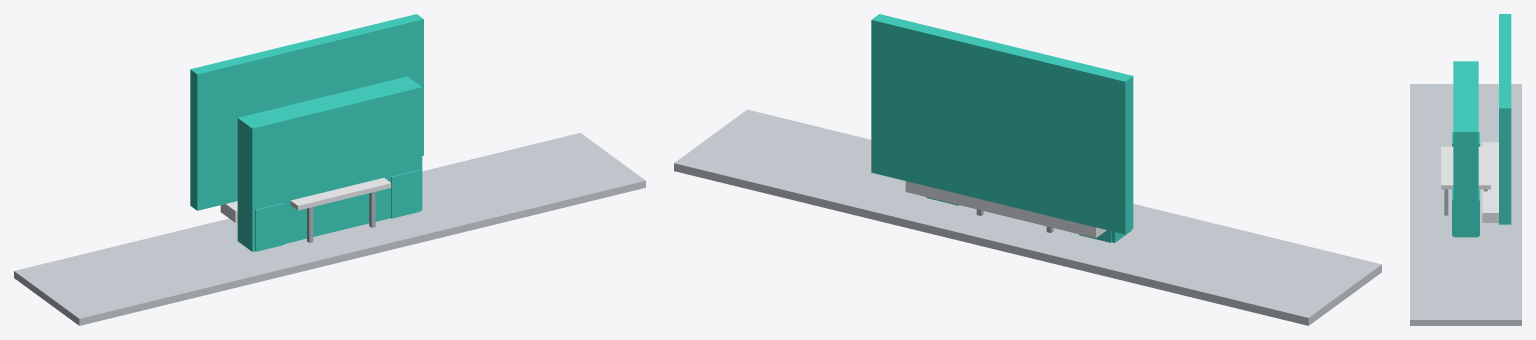
3 renders of one model, left to right at view 1: azimuth 30°, elevation 25°; view 2: azimuth 150°, elevation 25°; view 3: azimuth 270°, elevation 25°, orthographic. The views are drawn at different scales.
Parts seen in each view (by area): view 1: Exhibition Booth Concept; view 2: Exhibition Booth Concept; view 3: Exhibition Booth Concept.
Boxes of the visible parts, x1,y1,x2,y2 form: Exhibition Booth Concept: (14,14,645,325); Exhibition Booth Concept: (674,14,1381,325); Exhibition Booth Concept: (1410,14,1521,325).
Bounding box in the file's own units: 10 × 2.9 × 2.
